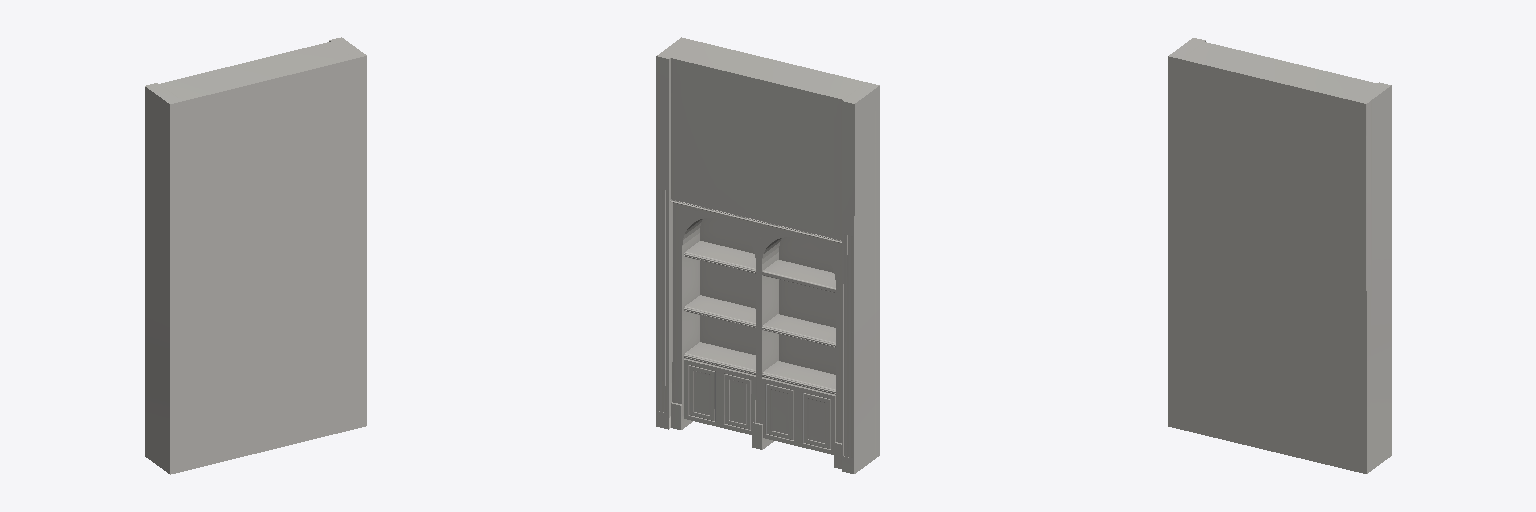
3 views of the same model, side by side, from view 1: azimuth 30°, elevation 25°; view 2: azimuth 150°, elevation 25°; view 3: azimuth 330°, elevation 25° (orthographic).
Visible parts, largest first — view 1: raw_model.obj; view 2: raw_model.obj; view 3: raw_model.obj.
Part boxes in pixels (x1,y1,x2,y2): raw_model.obj: (145, 37, 366, 474); raw_model.obj: (656, 37, 879, 473); raw_model.obj: (1168, 38, 1391, 473).
Bounding box in the file's own units: 1.37 × 2.44 × 0.3105.
1 materials, 1 textured.